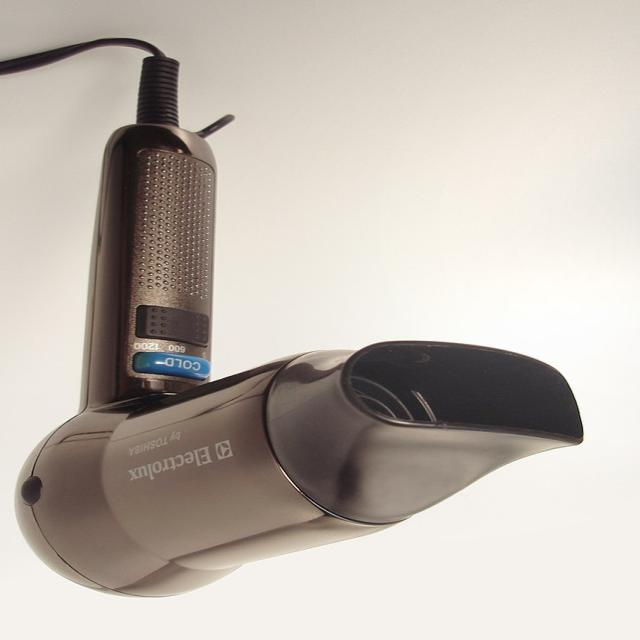dryer: (11, 55, 584, 600)
